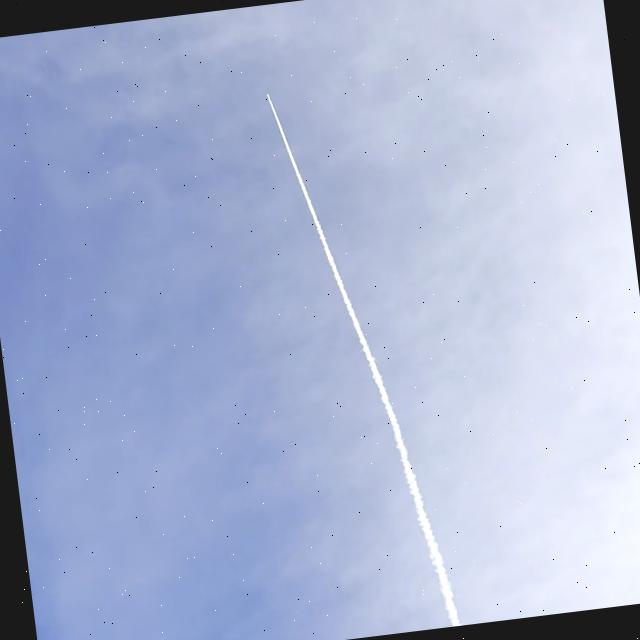smoke_trail_no_rocket: (267, 93, 461, 627)
